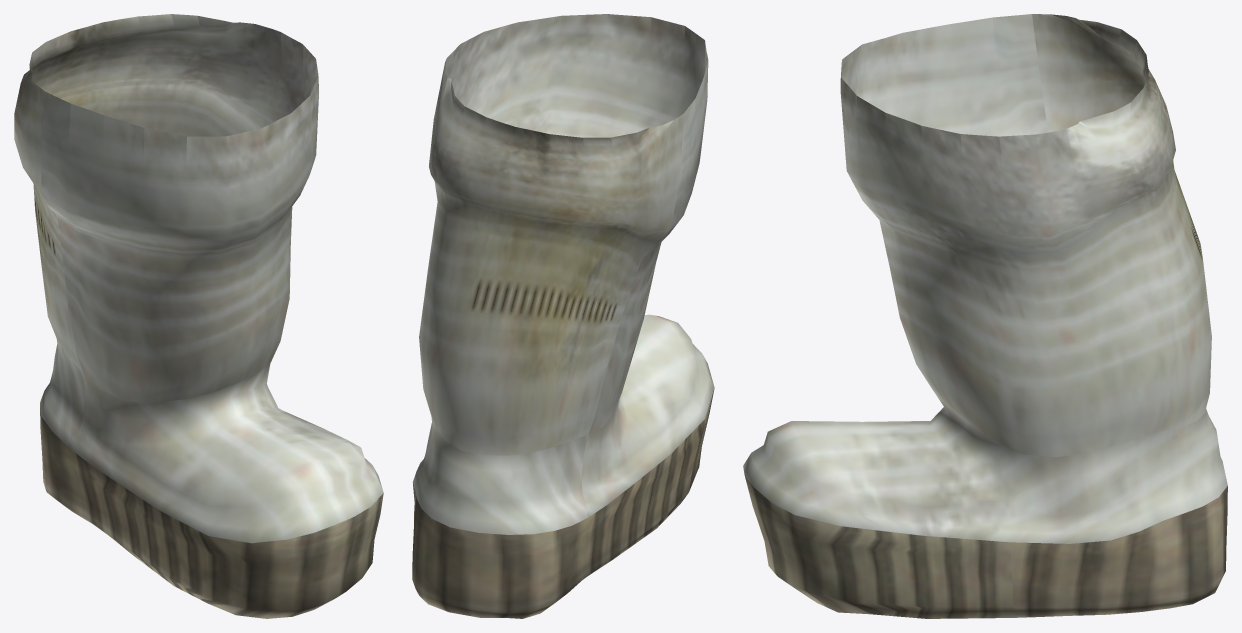
File: Rfoot.obj
The picture shows the model from 3 angles, left to right: view 1: azimuth 30°, elevation 25°; view 2: azimuth 150°, elevation 25°; view 3: azimuth 270°, elevation 25°; orthographic projection. The views are drawn at different scales.
Parts seen in each view (by area): view 1: polySurface16 polySurface14 polySurface12 polySurface9 polySurfa; view 2: polySurface16 polySurface14 polySurface12 polySurface9 polySurfa; view 3: polySurface16 polySurface14 polySurface12 polySurface9 polySurfa.
Part boxes in pixels (x1,y1,x2,y2): polySurface16 polySurface14 polySurface12 polySurface9 polySurfa: [14, 14, 383, 618]; polySurface16 polySurface14 polySurface12 polySurface9 polySurfa: [412, 14, 714, 618]; polySurface16 polySurface14 polySurface12 polySurface9 polySurfa: [743, 14, 1227, 618].
Size of the model in its own units: 0.5035 by 0.9435 by 0.8321.
1 material, 1 textured.
